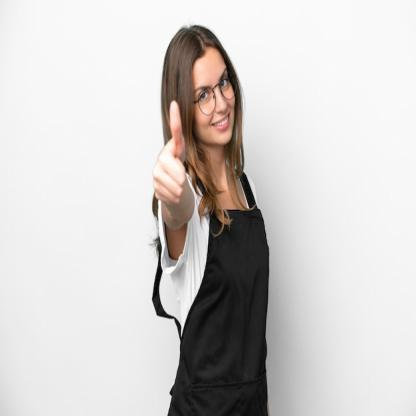thumb_up: (149, 98, 191, 215)
